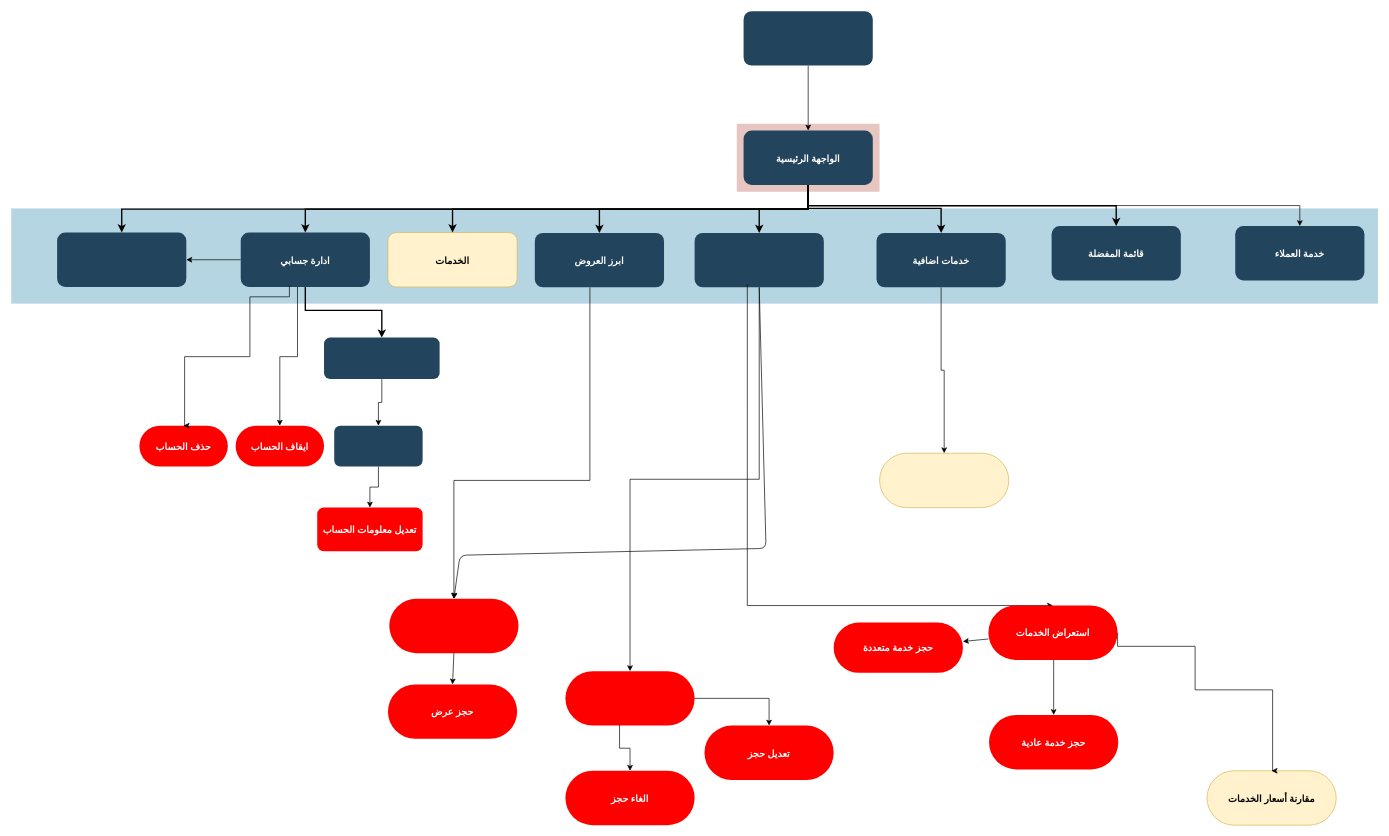
Some shapes in this 1389 by 836 pixel diagram are drawn without their labels. The shapes that lost their labels are listed below. From the top down, each one's box as (x1, y1, x2, y2) in pixels, then its label:
(743, 11, 872, 65): تسجيل الدخول
(57, 232, 186, 287): نقاطي
(694, 233, 823, 287): حجوزاتي
(324, 337, 439, 379): اداة المعلومات الشخصية
(334, 425, 422, 466): بروفايلي
(879, 453, 1009, 508): حجز سيارة
(389, 598, 518, 653): استعراض العروض
(565, 671, 694, 725): استعراض حجوزاتي
